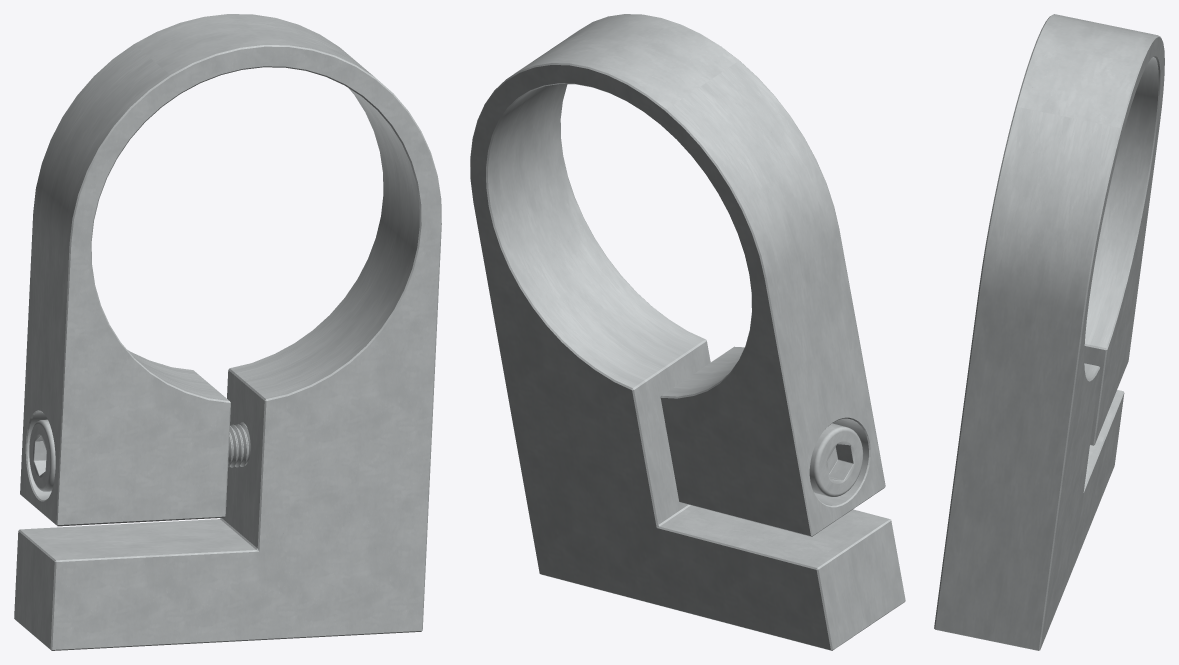
3 views of the same model, side by side, from view 1: azimuth 30°, elevation 25°; view 2: azimuth 150°, elevation 25°; view 3: azimuth 270°, elevation 25° (orthographic). The views are drawn at different scales.
Visible parts, largest first — view 1: Pipe clamp for Ø 48.3 mm.; view 2: Pipe clamp for Ø 48.3 mm.; view 3: Pipe clamp for Ø 48.3 mm..
Boxes of the visible parts, <box> form: Pipe clamp for Ø 48.3 mm.: <box>14,14,441,650</box>; Pipe clamp for Ø 48.3 mm.: <box>470,14,905,650</box>; Pipe clamp for Ø 48.3 mm.: <box>934,14,1164,650</box>.
Bounding box in the file's own units: 0.85 × 1.21 × 0.4535.
1 material, 1 textured.
